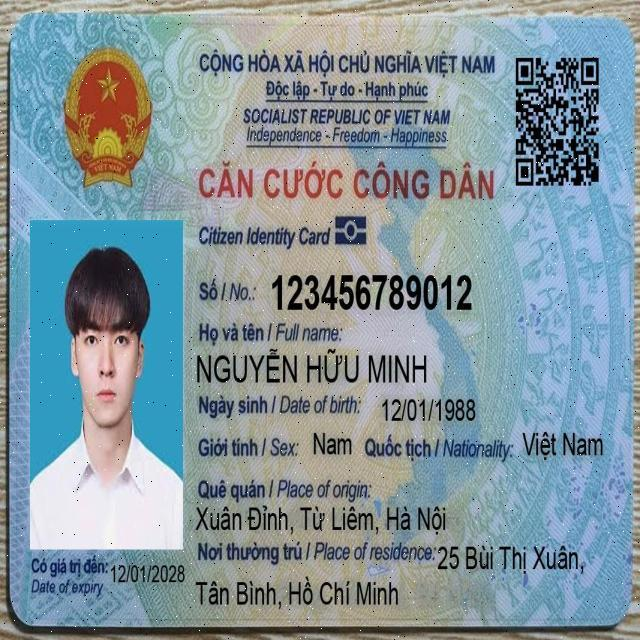current_place: (194, 572, 400, 613), (435, 541, 587, 580)
dob: (380, 391, 479, 428)
expire_date: (109, 558, 188, 588)
gender: (311, 428, 354, 460)
id: (268, 268, 475, 318)
name: (194, 345, 431, 391)
nationality: (520, 427, 606, 463)
origin_place: (192, 501, 449, 540)
qr: (511, 48, 606, 190)
